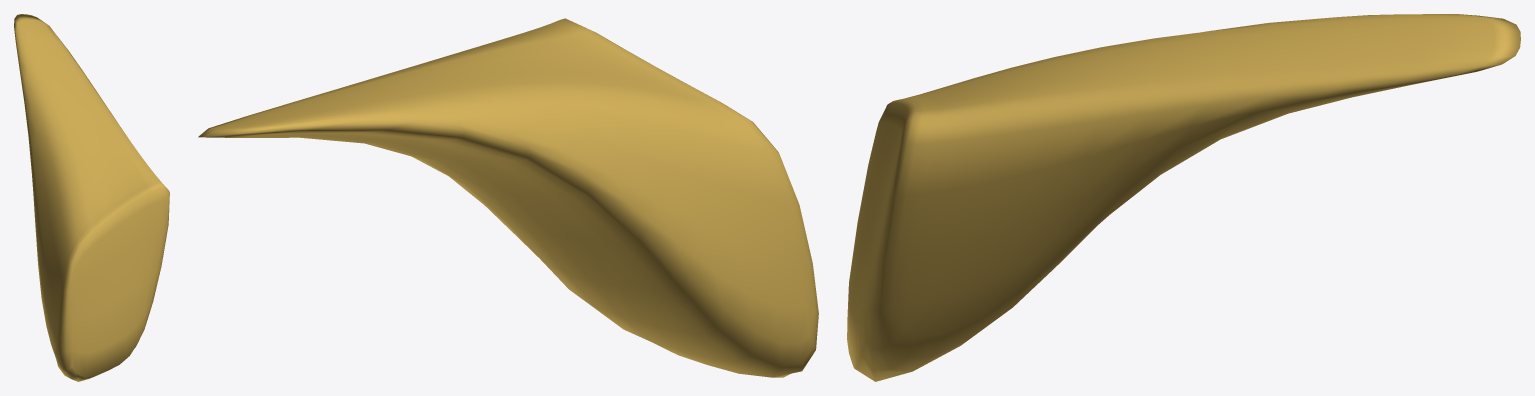
The model's file is Infrapatellar_fat_pad.r_Plane.202.glb.
3 views of the same model, side by side, from view 1: azimuth 30°, elevation 25°; view 2: azimuth 150°, elevation 25°; view 3: azimuth 270°, elevation 25° (orthographic). The views are drawn at different scales.
Visible parts, largest first — view 1: Infrapatellar_fat_pad.r_Plane.202; view 2: Infrapatellar_fat_pad.r_Plane.202; view 3: Infrapatellar_fat_pad.r_Plane.202.
Part boxes in pixels (left/top/right/bottom): Infrapatellar_fat_pad.r_Plane.202: left=14, top=14, right=169, bottom=381; Infrapatellar_fat_pad.r_Plane.202: left=198, top=18, right=818, bottom=377; Infrapatellar_fat_pad.r_Plane.202: left=847, top=14, right=1520, bottom=381.
Bounding box in the file's own units: 0.0117 × 0.0166 × 0.0237.
